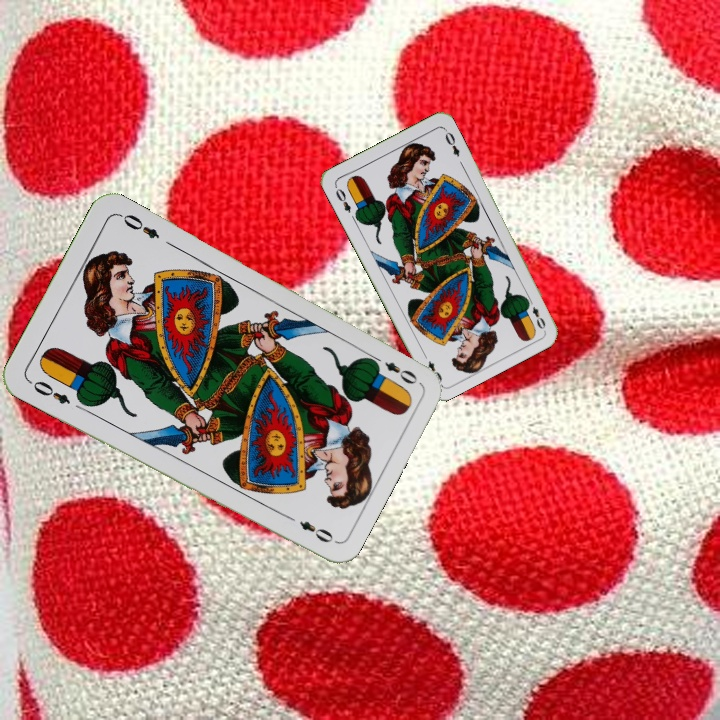EO: (366, 351, 421, 387), (24, 376, 73, 407), (523, 294, 548, 332), (331, 184, 354, 215)
